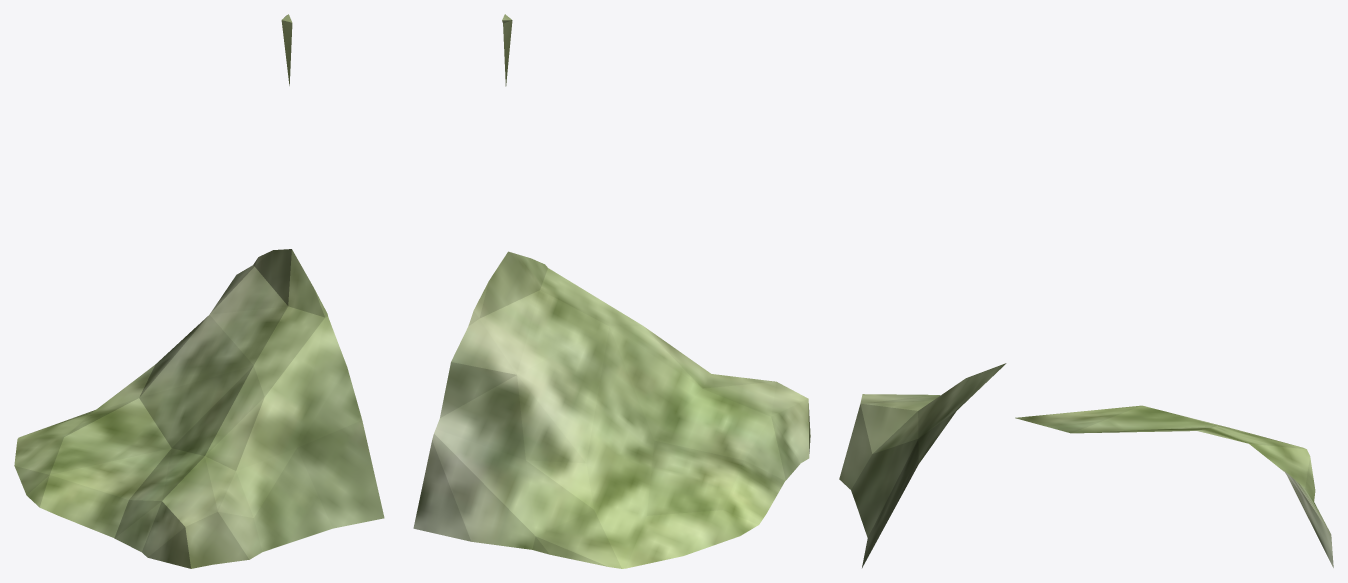
3 views of the same model, side by side, from view 1: azimuth 30°, elevation 25°; view 2: azimuth 150°, elevation 25°; view 3: azimuth 270°, elevation 25° (orthographic). The views are drawn at different scales.
Bounding box in the file's own units: 0.6007 × 1.01 × 0.8122.
Materials: 1 (1 with a texture image).
